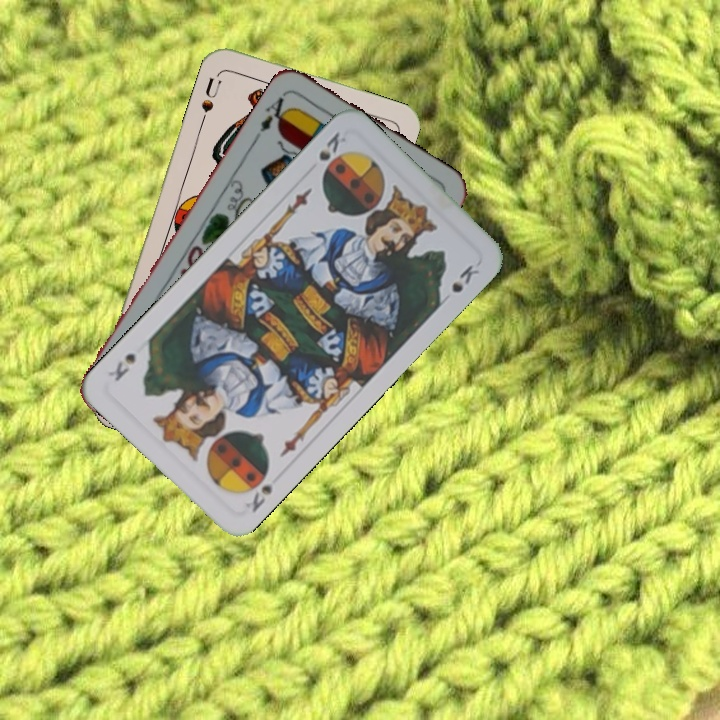EA: (255, 88, 295, 135)
SK: (239, 463, 276, 515), (314, 127, 349, 164)
SU: (196, 73, 225, 125)
